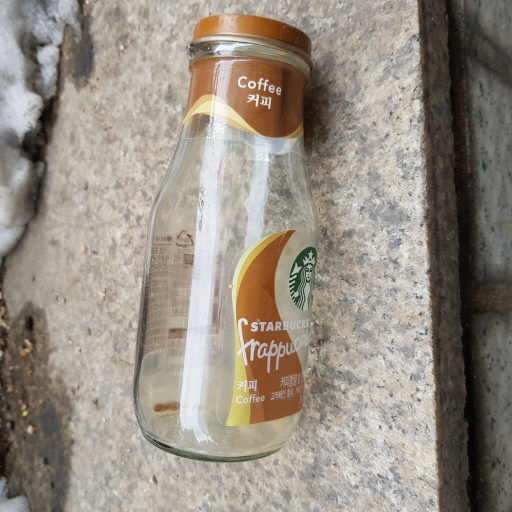Glass_4: (129, 10, 324, 468)
